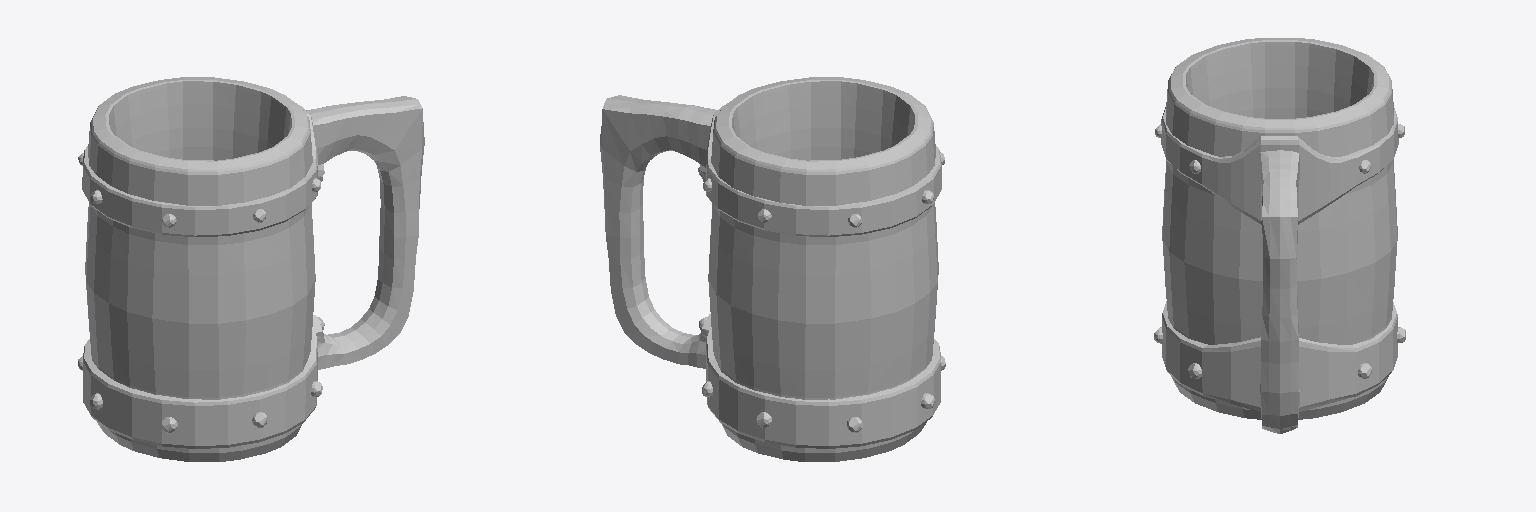
Rendered from mug.obj.
The picture shows the model from 3 angles: view 1: azimuth 30°, elevation 25°; view 2: azimuth 150°, elevation 25°; view 3: azimuth 270°, elevation 25°; orthographic projection.
Parts seen in each view (by area): view 1: Mug; view 2: Mug; view 3: Mug.
Boxes of the visible parts, box(x1,y1,x2,y2) form: Mug: box(78, 77, 424, 461); Mug: box(600, 77, 945, 461); Mug: box(1154, 38, 1405, 433).
Bounding box in the file's own units: 0.3123 × 0.2689 × 0.2068.